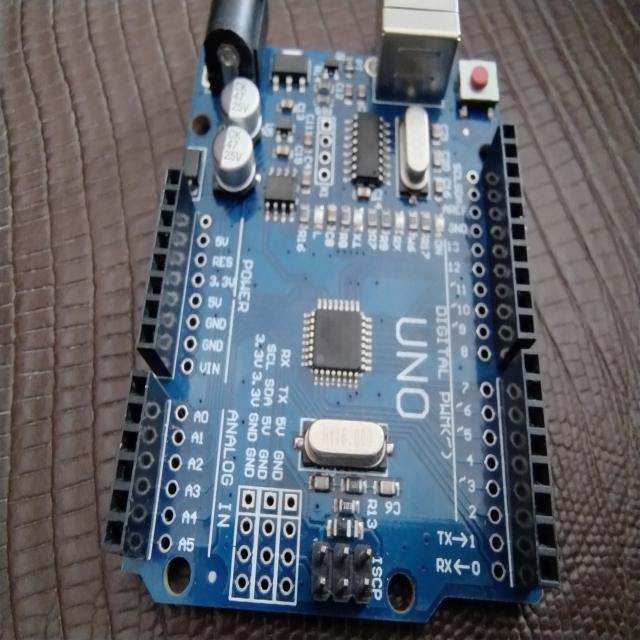arduino: (98, 0, 568, 625)
